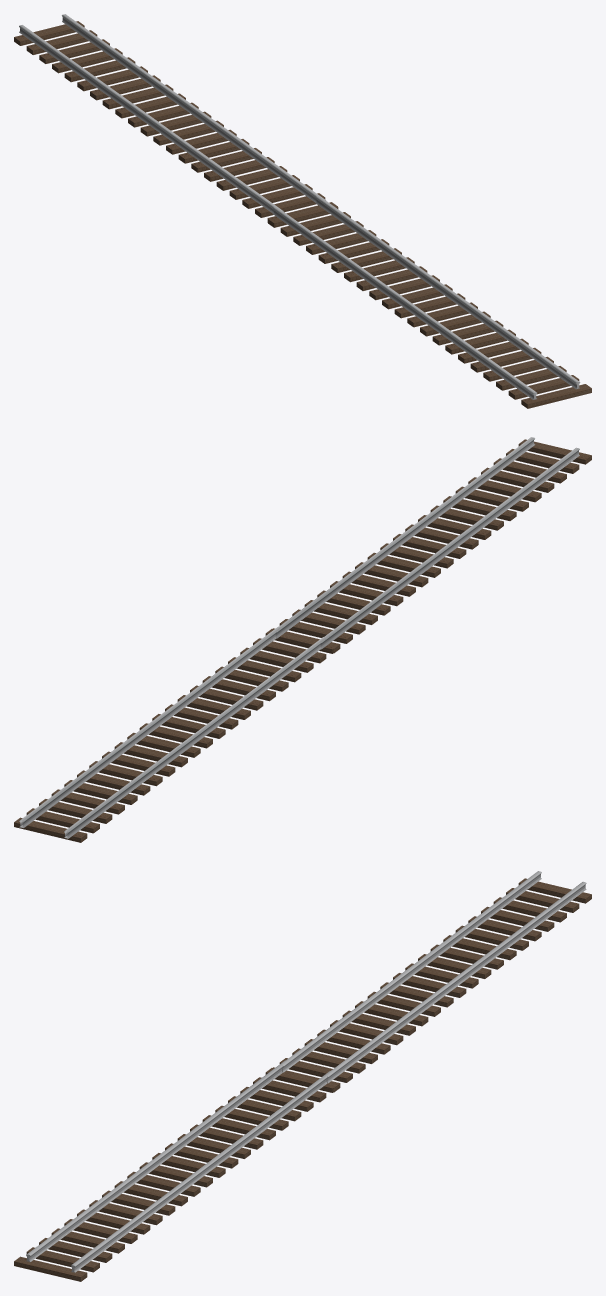
File: railway track.fbx
The picture shows the model from 3 angles, top to bottom: view 1: azimuth 30°, elevation 25°; view 2: azimuth 150°, elevation 25°; view 3: azimuth 330°, elevation 25°; orthographic projection. The views are drawn at different scales.
Visible parts, largest first — view 1: railway_track1; view 2: railway_track1; view 3: railway_track1.
Boxes of the visible parts, left/top/right/bottom form: railway_track1: left=14, top=14, right=591, bottom=408; railway_track1: left=14, top=437, right=591, bottom=842; railway_track1: left=14, top=871, right=591, bottom=1281.
Size of the model in its own units: 1.39 by 0.2029 by 16.59.
